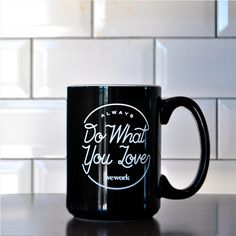wework: (105, 173, 132, 182)
